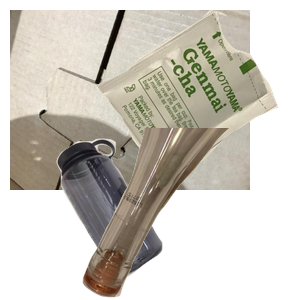cardboard: (10, 10, 250, 190)
glass: (80, 128, 300, 300)
plastic: (54, 136, 209, 300)
trash: (91, 10, 300, 186)
